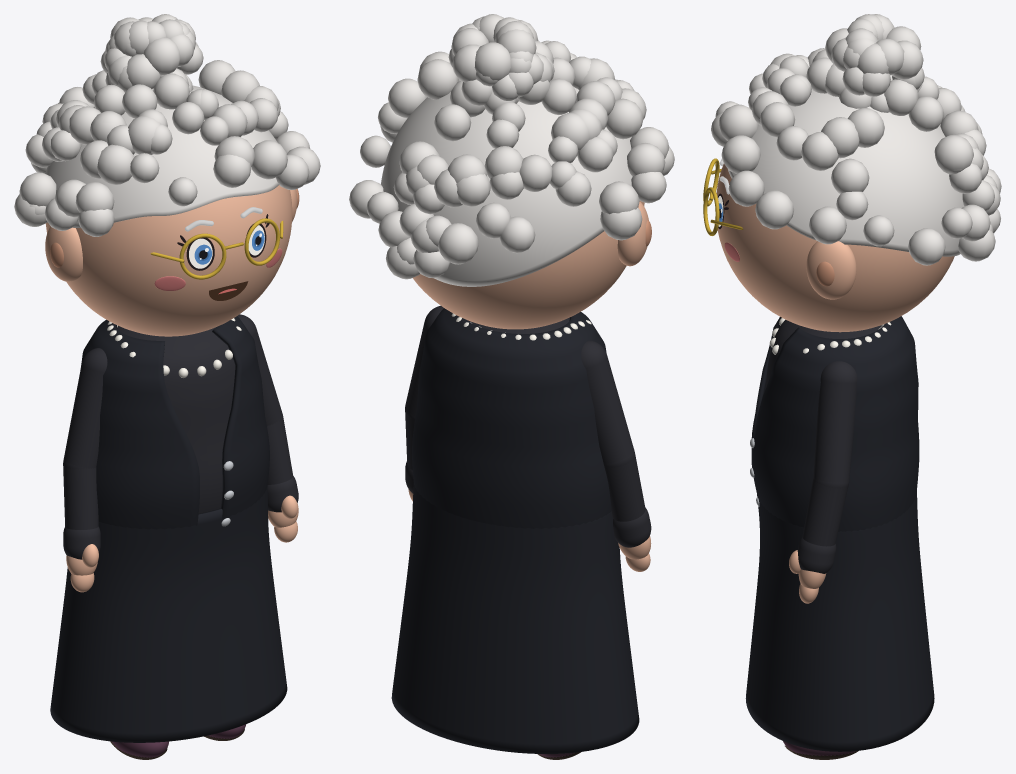
Rendered from oma_zwart.glb.
3 views of the same model, side by side, from view 1: azimuth 30°, elevation 25°; view 2: azimuth 150°, elevation 25°; view 3: azimuth 270°, elevation 25° (orthographic). The views are drawn at different scales.
Visible parts, largest first — view 1: oma_zwart_rok, oma_zwart_vest, oma_zwart_hoofd, oma_zwart_romp, oma_zwart_haar, oma_zwart_bovenarm_R, oma_zwart_onderarm_R, oma_zwart_oor_R, oma_zwart_bovenarm_L, oma_zwart_onderarm_L, oma_zwart_krul26, oma_zwart_krul7 (+34 smaller); view 2: oma_zwart_rok, oma_zwart_vest, oma_zwart_haar, oma_zwart_hoofd, oma_zwart_bovenarm_R, oma_zwart_onderarm_R, oma_zwart_krul13, oma_zwart_krul48, oma_zwart_krul1, oma_zwart_knotkrul87, oma_zwart_krul36, oma_zwart_krul35 (+38 smaller); view 3: oma_zwart_rok, oma_zwart_vest, oma_zwart_haar, oma_zwart_hoofd, oma_zwart_bovenarm_L, oma_zwart_onderarm_L, oma_zwart_oor_L, oma_zwart_krul78, oma_zwart_krul7, oma_zwart_krul63, oma_zwart_krul21, oma_zwart_romp (+27 smaller).
Part boxes in pixels (x1,y1,x2,y2): oma_zwart_rok: [50, 486, 287, 742]; oma_zwart_vest: [81, 316, 269, 529]; oma_zwart_hoofd: [45, 185, 292, 336]; oma_zwart_romp: [117, 325, 235, 513]; oma_zwart_haar: [45, 85, 279, 227]; oma_zwart_bovenarm_R: [63, 348, 107, 468]; oma_zwart_onderarm_R: [63, 463, 98, 529]; oma_zwart_oor_R: [45, 226, 82, 281]; oma_zwart_bovenarm_L: [237, 314, 282, 426]; oma_zwart_onderarm_L: [267, 417, 293, 484]; oma_zwart_krul26: [97, 144, 134, 184]; oma_zwart_krul7: [251, 140, 287, 179]; oma_zwart_rok: [391, 482, 639, 753]; oma_zwart_vest: [412, 308, 611, 528]; oma_zwart_haar: [381, 79, 632, 286]; oma_zwart_hoofd: [413, 201, 644, 329]; oma_zwart_bovenarm_R: [581, 340, 634, 467]; oma_zwart_onderarm_R: [604, 454, 645, 521]; oma_zwart_krul13: [438, 223, 478, 264]; oma_zwart_krul48: [417, 59, 458, 99]; oma_zwart_krul1: [606, 98, 643, 139]; oma_zwart_knotkrul87: [474, 42, 510, 80]; oma_zwart_krul36: [434, 104, 471, 141]; oma_zwart_krul35: [599, 181, 639, 214]; oma_zwart_rok: [745, 491, 934, 751]; oma_zwart_vest: [751, 316, 919, 531]; oma_zwart_haar: [728, 89, 964, 256]; oma_zwart_hoofd: [716, 164, 954, 332]; oma_zwart_bovenarm_L: [813, 361, 857, 487]; oma_zwart_onderarm_L: [802, 478, 848, 546]; oma_zwart_oor_L: [806, 241, 856, 299]; oma_zwart_krul78: [755, 190, 793, 229]; oma_zwart_krul7: [721, 135, 760, 173]; oma_zwart_krul63: [934, 134, 973, 174]; oma_zwart_krul21: [809, 206, 846, 244]; oma_zwart_romp: [765, 319, 881, 388].
Bounding box in the file's own units: 0.7298 × 1.84 × 0.6966.
